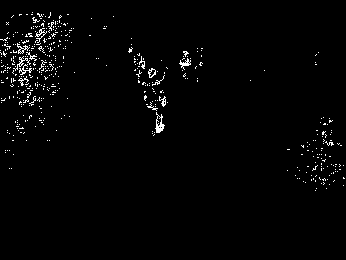person: (139, 67, 170, 137)
